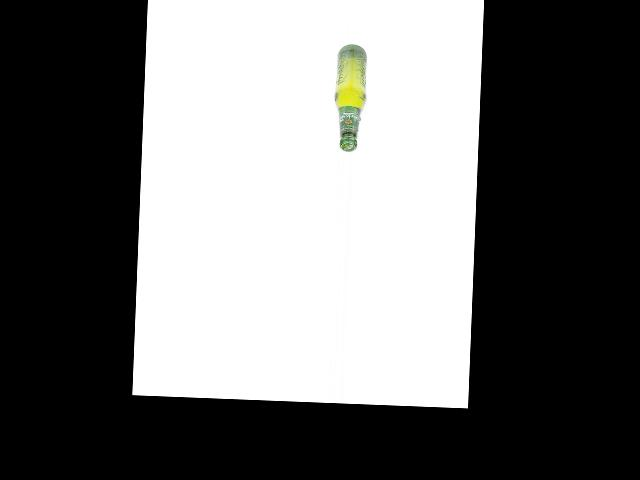beer: (333, 43, 368, 152)
